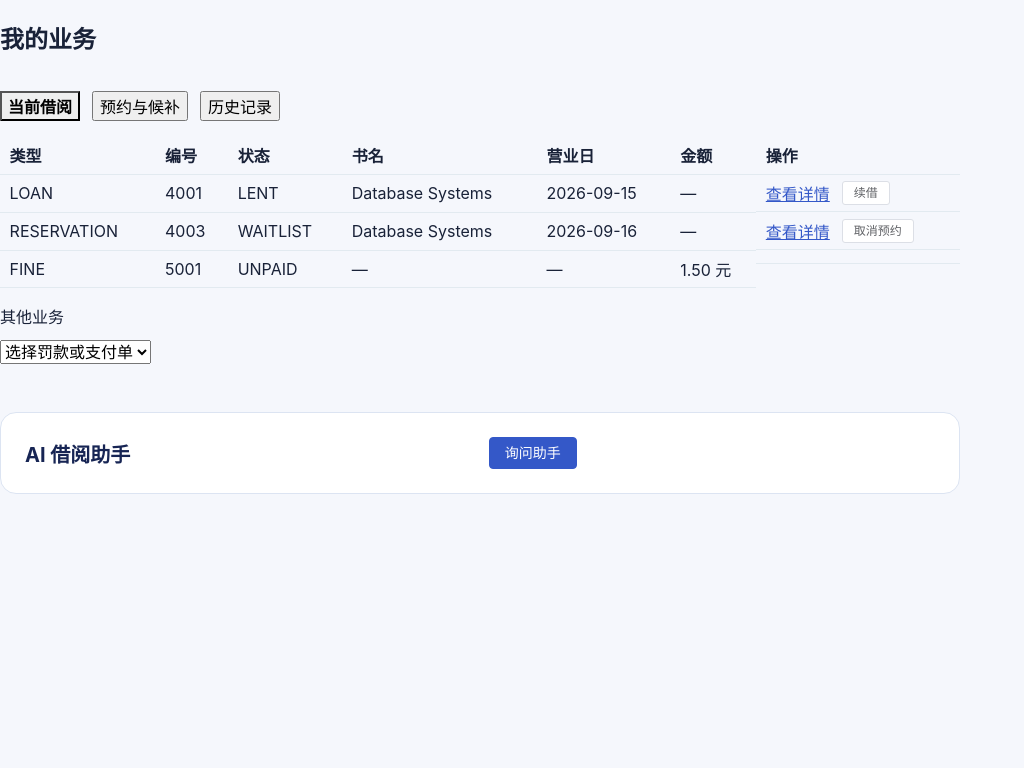
it: MyBusinessView › prefills the renew modal from an AI L2 card and submits with the draft id
This screenshot has width=1024, height=768.
Click the button with test id "business-assistant-open" at [533, 453], box [489, 437, 577, 469]
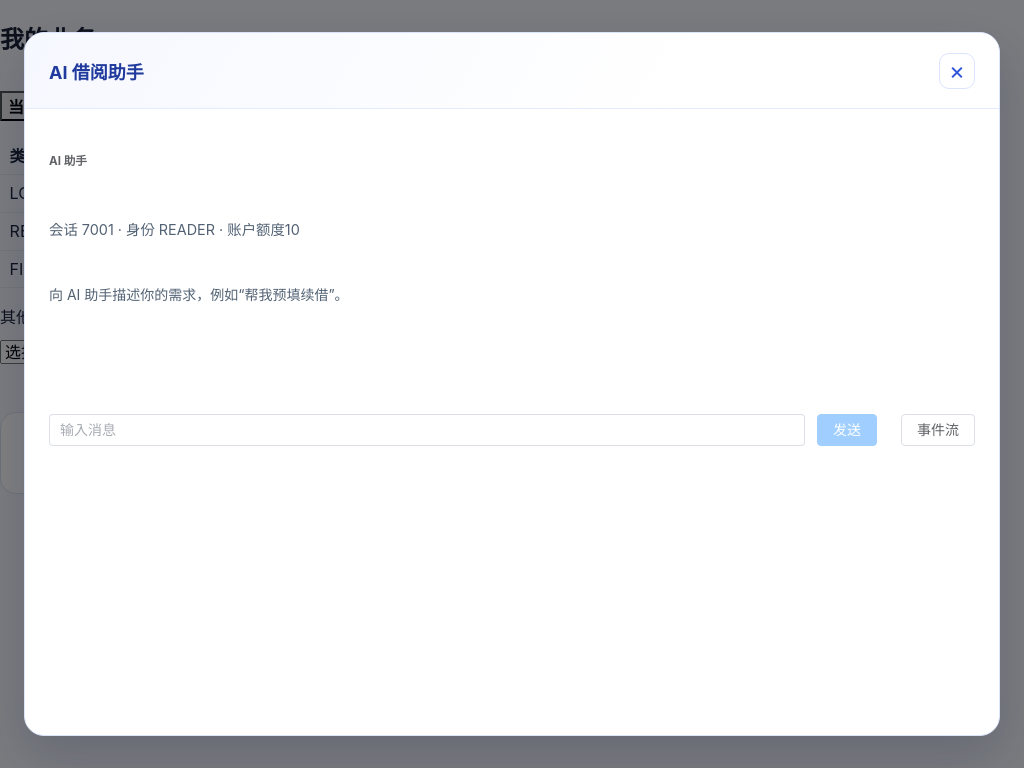
Type "帮我预填续借" into the field with test id "ai-input" at [427, 430], box [60, 415, 794, 445]
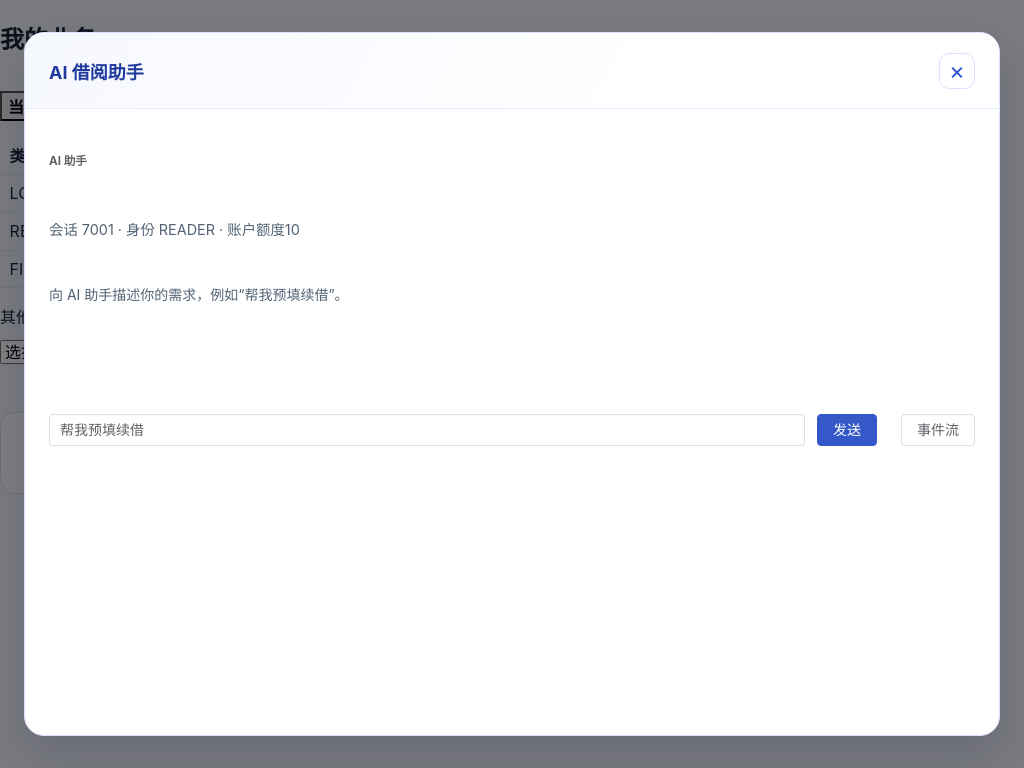
Submit the form with test id "ai-composer", box [49, 414, 975, 446]
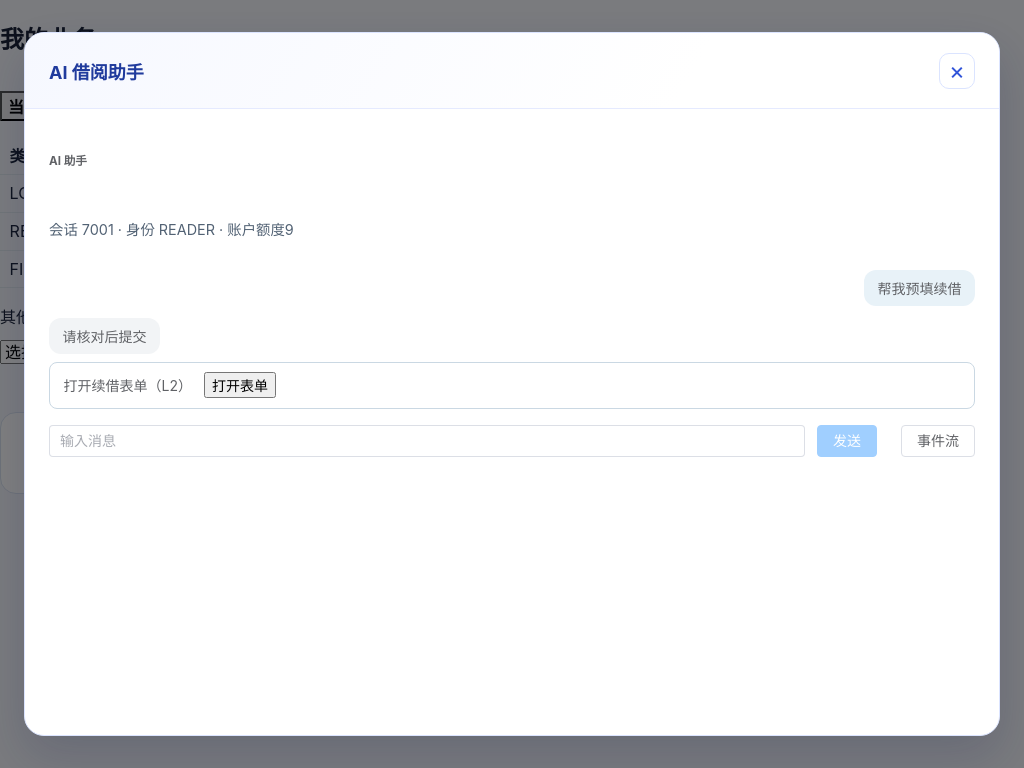
Click the button with test id "ai-action-open-7201" at [240, 385], box [204, 372, 276, 398]
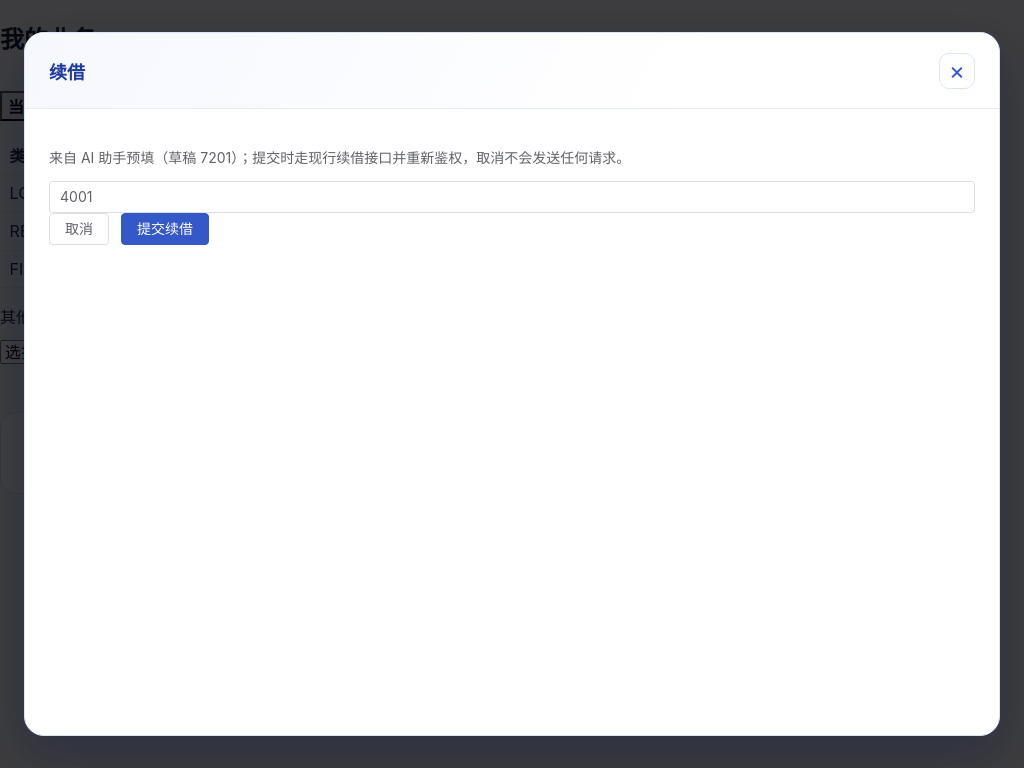
expect the element with test id "renew-modal" is shown: met
expect the field with test id "renew-modal-tx-id" holds "4001": met, box [60, 182, 964, 212]
expect the text with test id "renew-draft-note" shows "7201": met, box [49, 149, 630, 166]
Click the button with test id "renew-modal-submit" at [165, 229], box [121, 213, 209, 245]
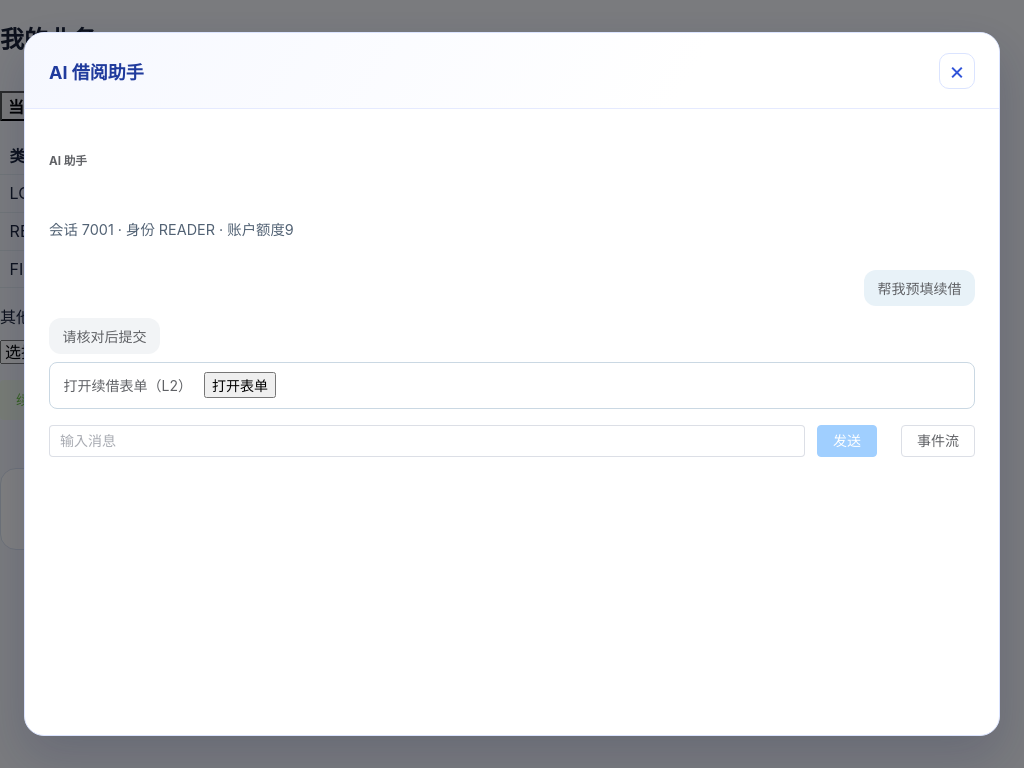
expect the element with test id "renew-result" is shown: met, box [0, 380, 960, 420]
expect the element with test id "renew-modal" is gone: met
